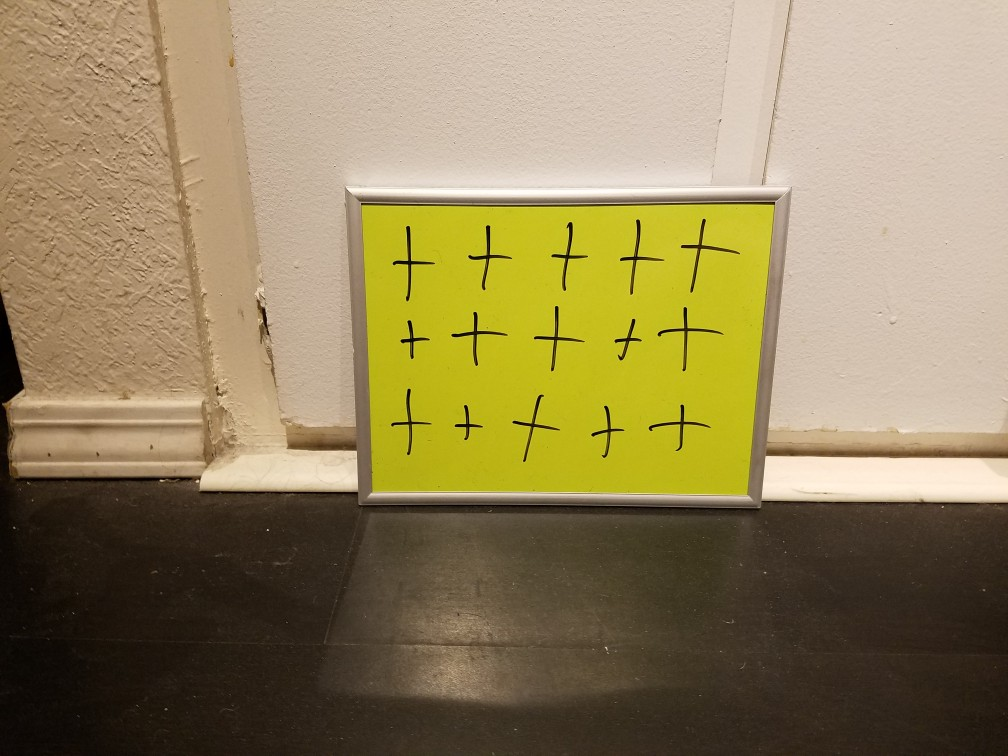+: (654, 302, 724, 388), (675, 212, 742, 300), (503, 386, 565, 474), (377, 380, 438, 468), (446, 310, 515, 381), (463, 220, 522, 300), (615, 215, 669, 301), (383, 224, 436, 306), (644, 400, 717, 457), (533, 299, 583, 381), (540, 217, 591, 294), (586, 395, 634, 470), (603, 311, 650, 370), (391, 315, 432, 365), (453, 392, 485, 452)
